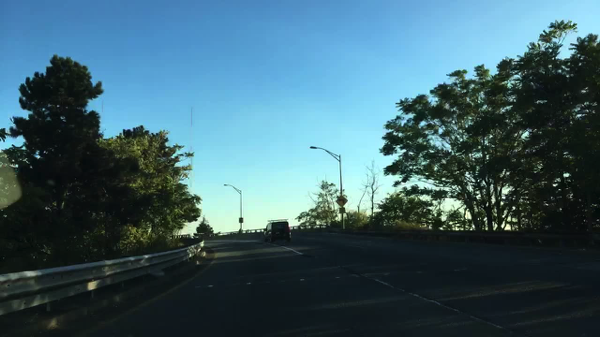car: (263, 219, 292, 242)
traffic sign: (336, 195, 348, 206), (338, 206, 346, 214), (239, 217, 244, 223)
